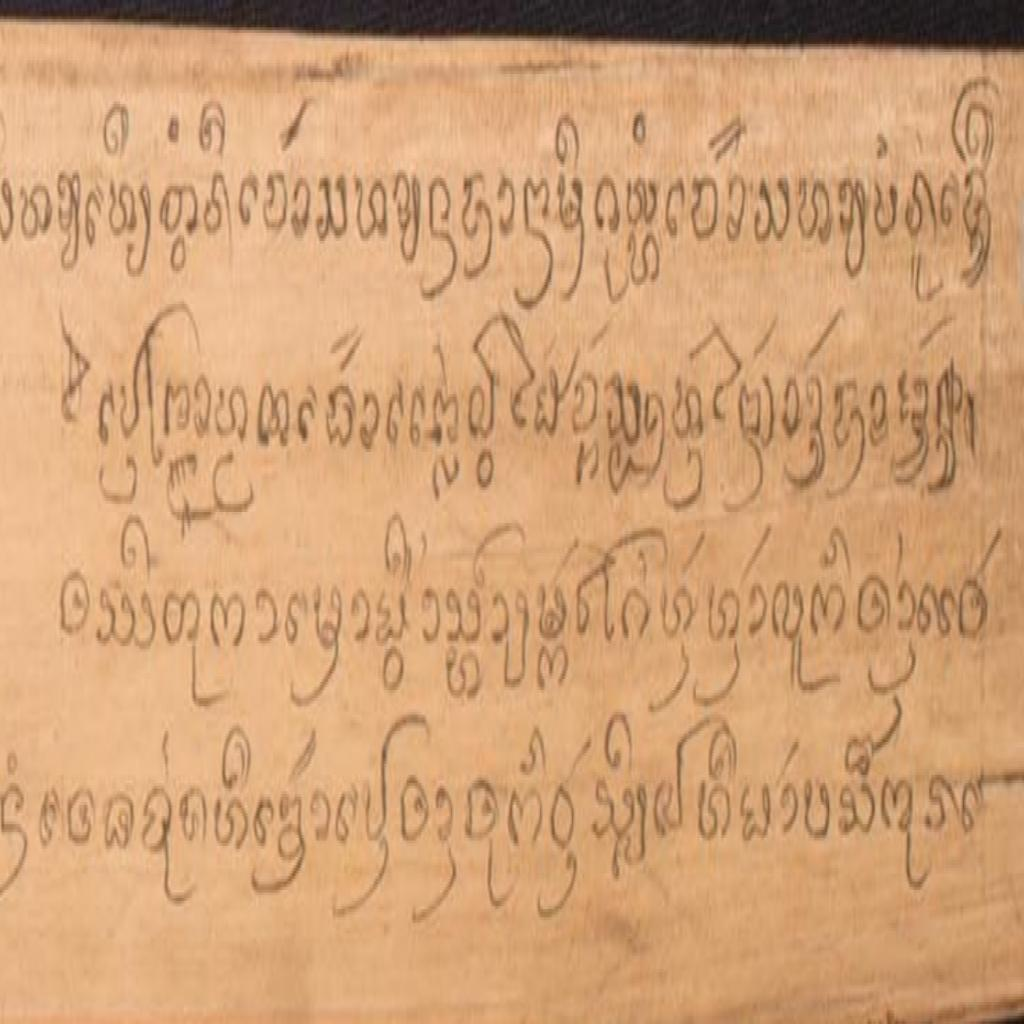LN006: (261, 164, 291, 242)
LN007: (313, 167, 352, 255)
LN023: (428, 170, 455, 248)
